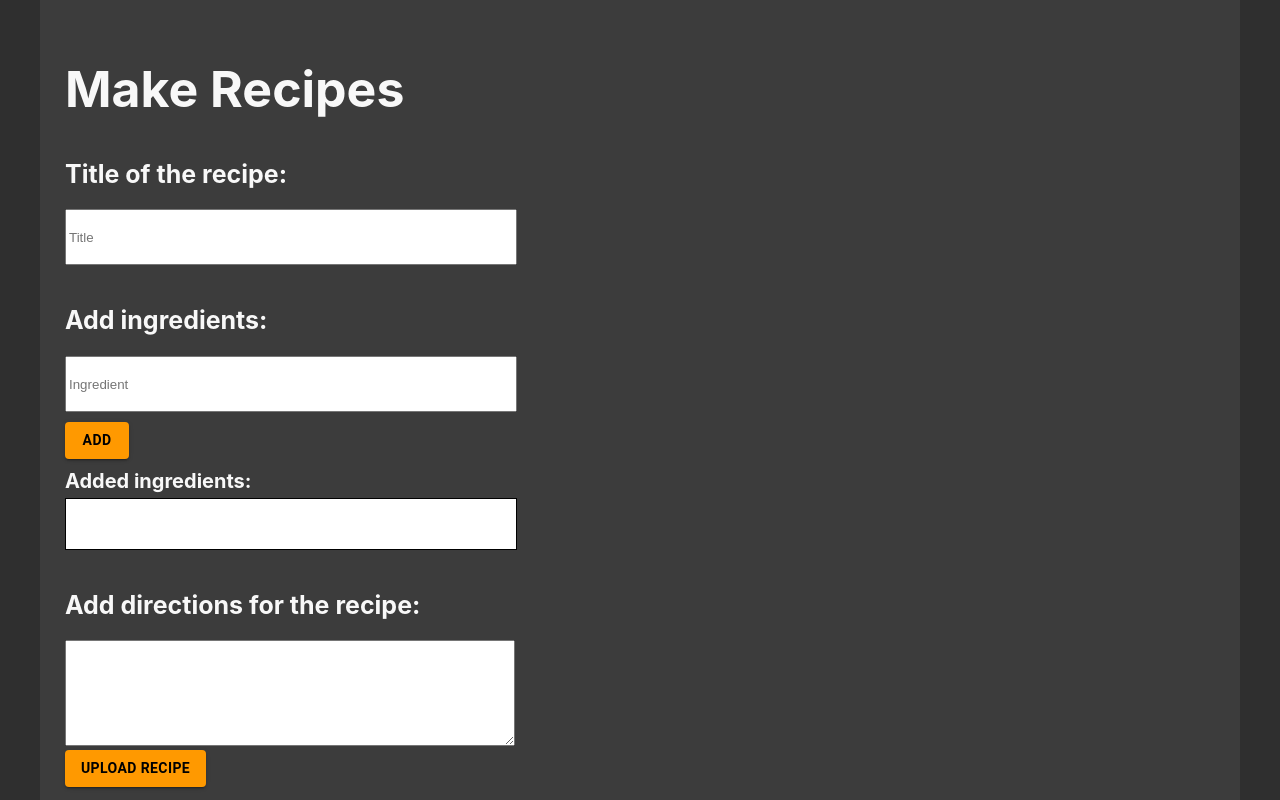
With React Testing Library › Error message when trying to make recipe without data
Click the button with test id "addRecipeButton".
click(136, 769)  # box x1=65 y1=750 x2=206 y2=787
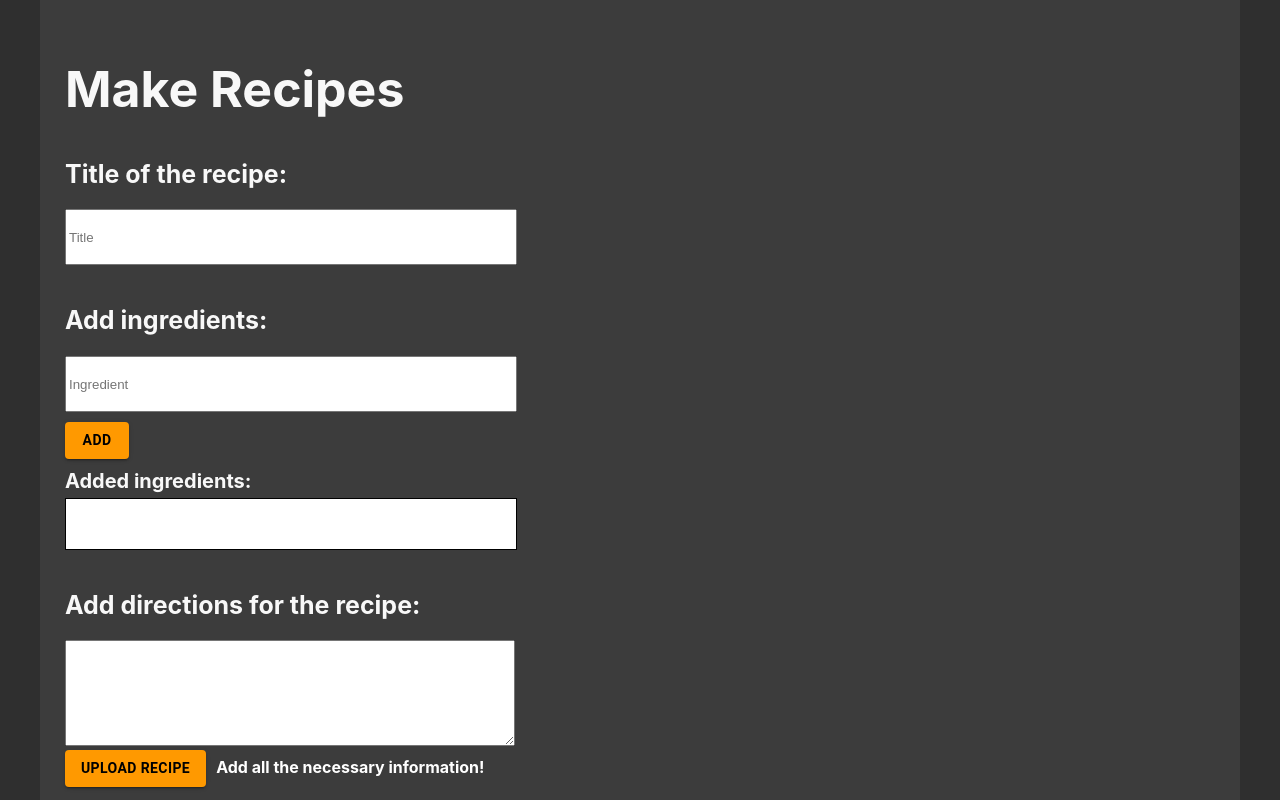
Check: the text "Add all the necessary information!" is shown, box x1=216 y1=757 x2=484 y2=777
